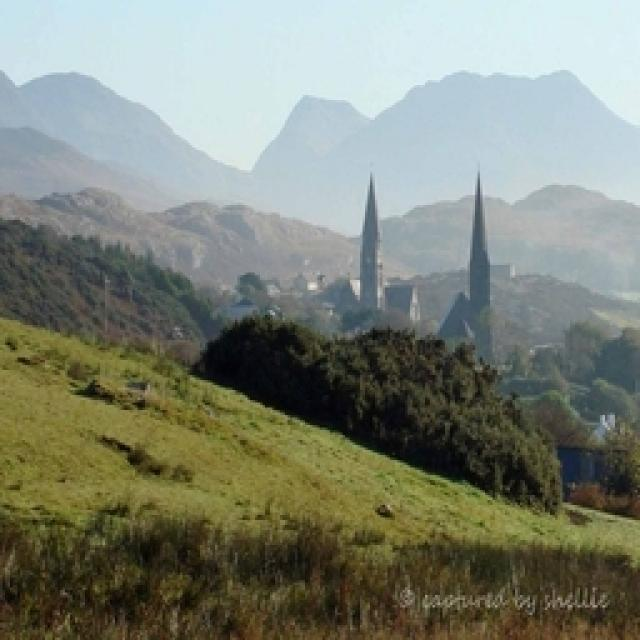Abbey: (328, 180, 609, 460)
